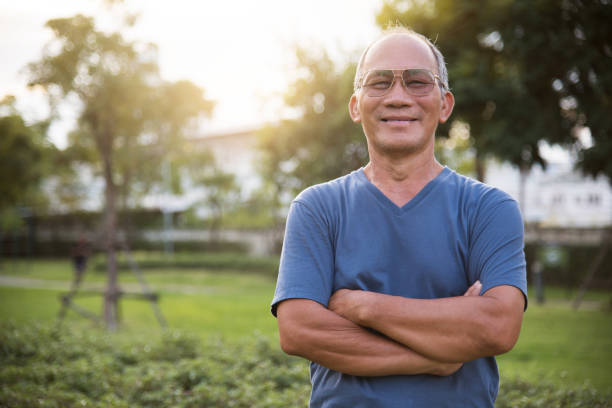person: (347, 29, 455, 161)
